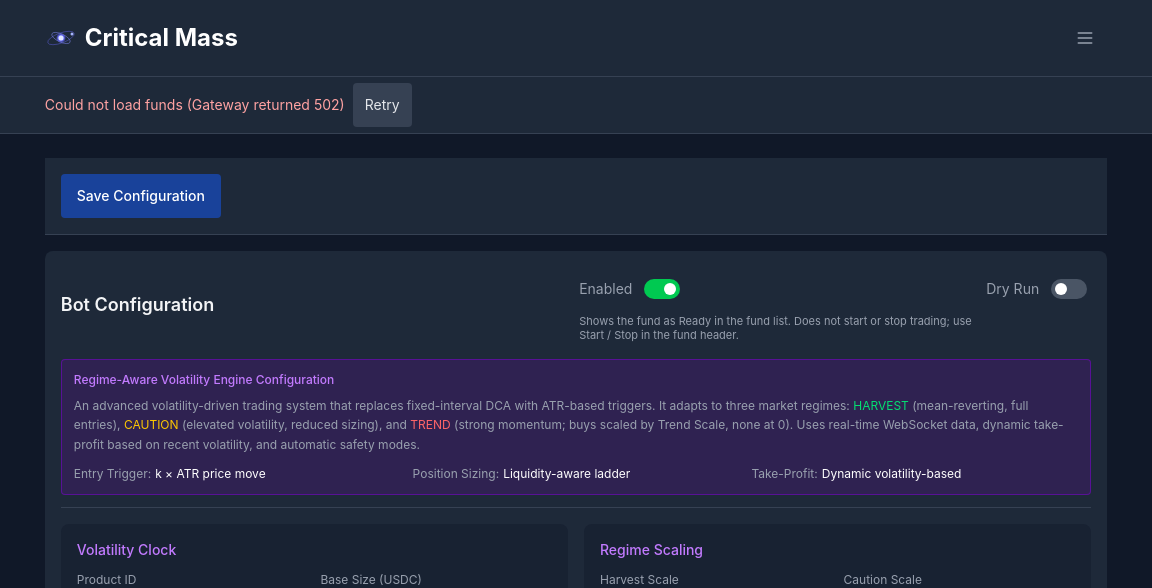
Test: shows Could not load funds with Retry, no Start/Stop or tabs, and recovers on Retry
The image size is (1152, 588).
expect the text "Could not load funds (Gateway returned 502)" is shown: met, box [45, 95, 345, 115]
Click the button "Retry" at (382, 105), box [353, 83, 412, 127]
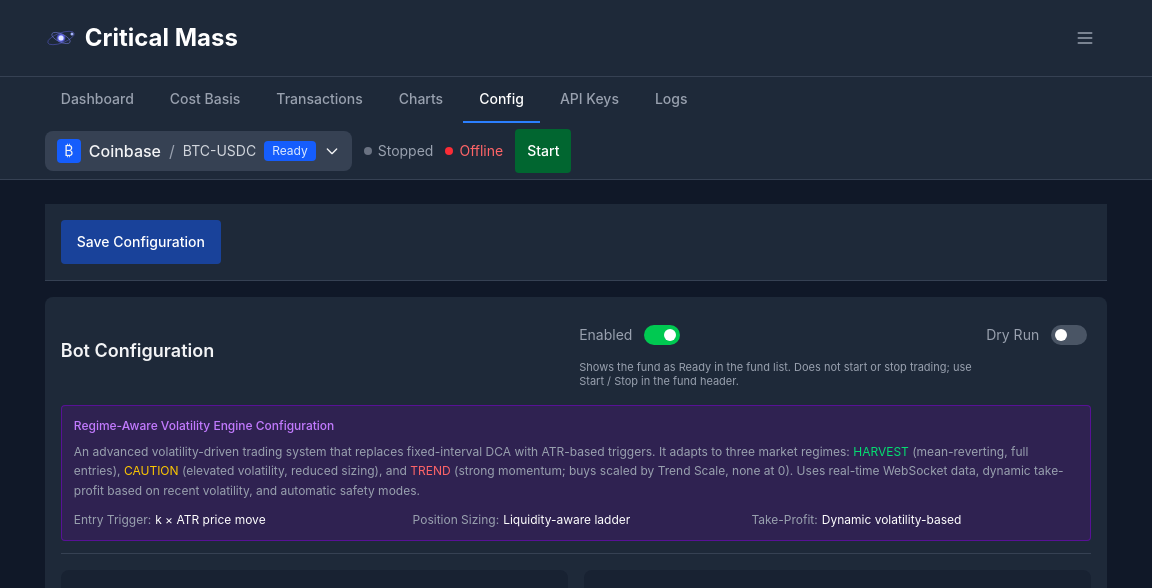
expect the element with class "exchange-selector" is shown: met, box [45, 131, 352, 171]
expect the text "Could not load funds" is gone: met
expect the button "Start" is shown: met, box [515, 129, 572, 173]
